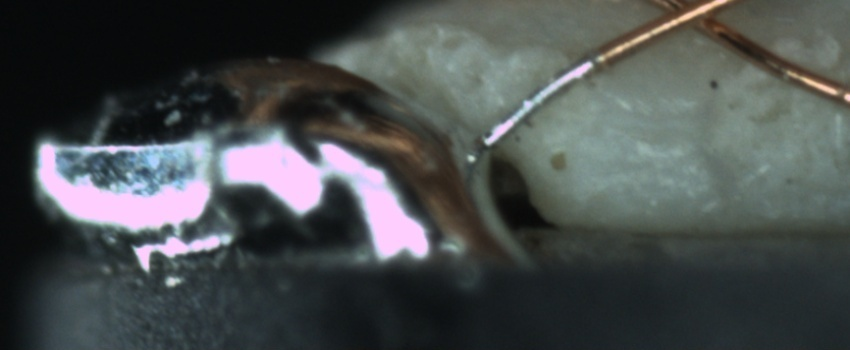CL: (639, 0, 748, 40)
DL: (601, 95, 703, 150)
TS: (482, 49, 607, 149)
